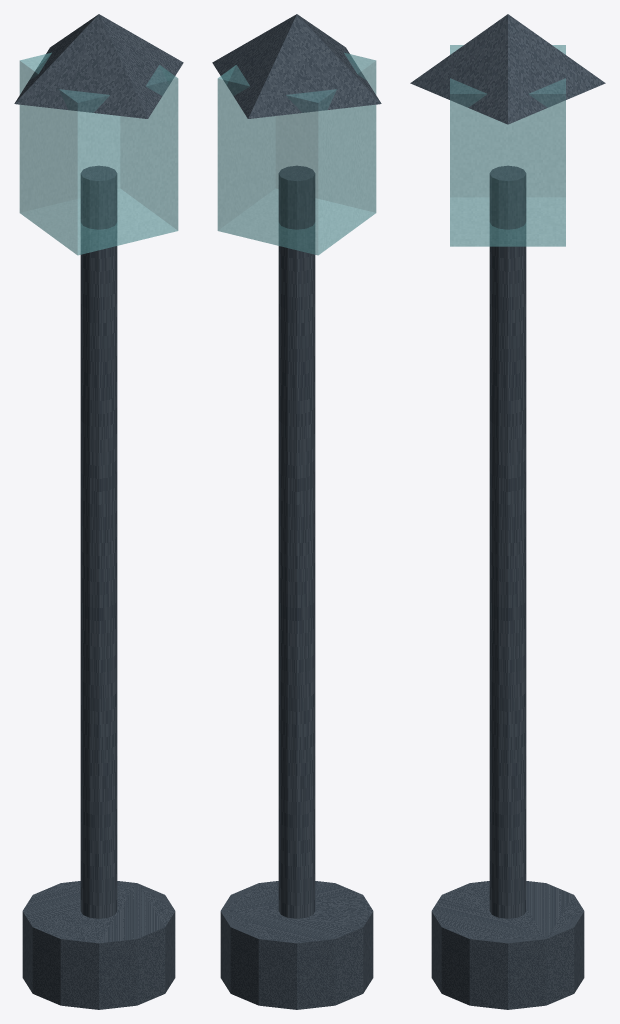
The model's file is streetlamp.glb.
3 renders of one model, left to right at view 1: azimuth 30°, elevation 25°; view 2: azimuth 150°, elevation 25°; view 3: azimuth 270°, elevation 25°, orthographic.
Parts seen in each view (by area): view 1: pole, lantern, base, roof; view 2: pole, lantern, base, roof; view 3: pole, lantern, base, roof.
Part boxes in pixels (x1,y1,x2,y2): pole: (80, 165, 117, 918); lantern: (19, 52, 178, 255); base: (22, 881, 175, 1009); roof: (14, 14, 183, 118); pole: (278, 165, 315, 918); lantern: (217, 52, 376, 255); base: (220, 881, 373, 1009); roof: (212, 14, 381, 118); pole: (489, 165, 526, 918); lantern: (450, 45, 565, 246); base: (431, 881, 584, 1009); roof: (410, 14, 605, 124).
Bounding box in the file's own units: 0.64 × 3.47 × 0.64.
2 materials, 2 textured.
